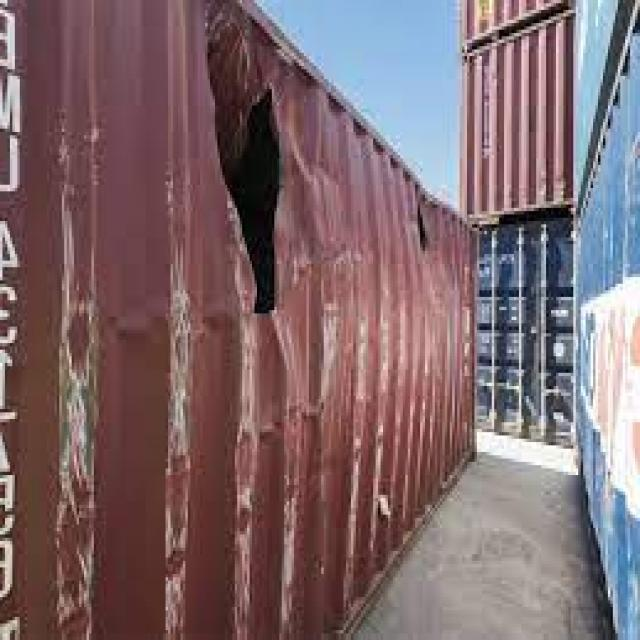hole: (186, 74, 308, 319), (393, 210, 443, 269)
